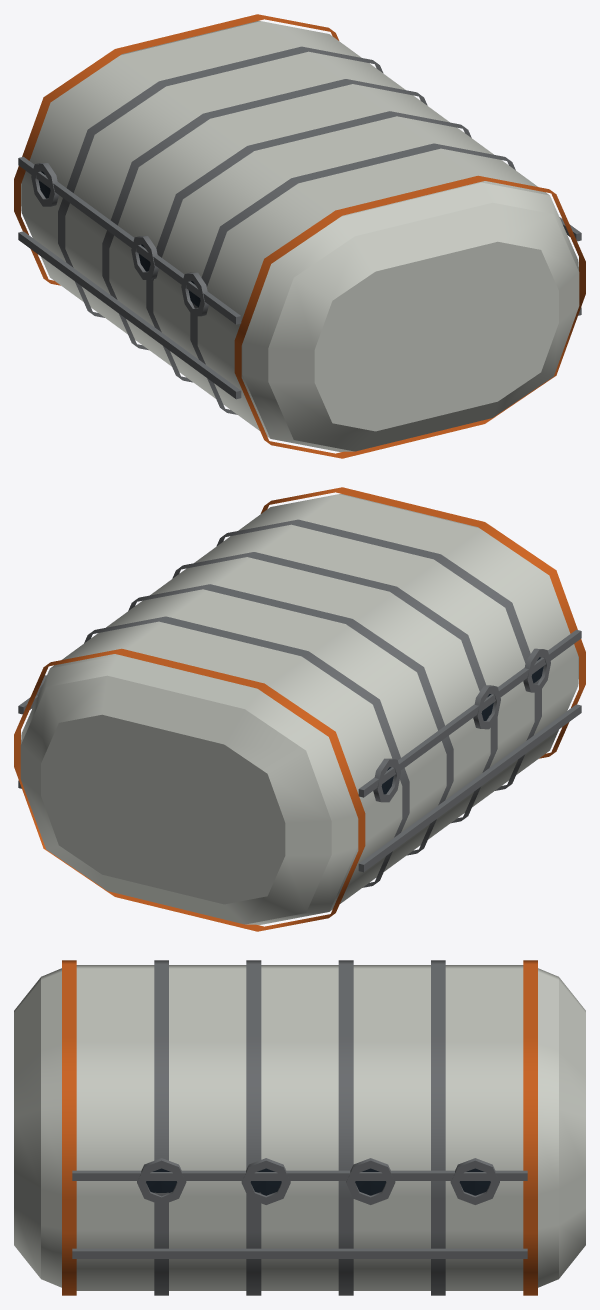
The model's file is p20_hull.obj.
3 views of the same model, one above another, from view 1: azimuth 30°, elevation 25°; view 2: azimuth 150°, elevation 25°; view 3: azimuth 270°, elevation 25° (orthographic). The views are drawn at different scales.
Visible parts, largest first — view 1: p20_hull; view 2: p20_hull; view 3: p20_hull.
Part boxes in pixels (left/top/right/bottom): p20_hull: left=14, top=14, right=585, bottom=458; p20_hull: left=14, top=487, right=585, bottom=931; p20_hull: left=14, top=960, right=585, bottom=1295.
Size of the model in its own units: 3.4 by 2.28 by 4.65.
